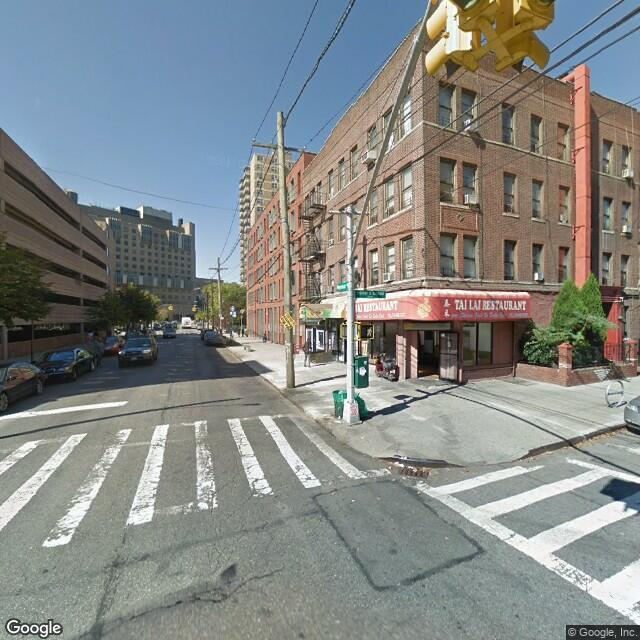litter: (392, 460, 403, 469), (407, 465, 417, 471), (349, 498, 357, 504)
